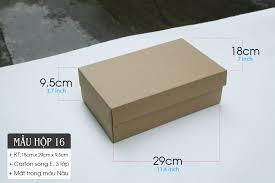box: (78, 36, 227, 144)
